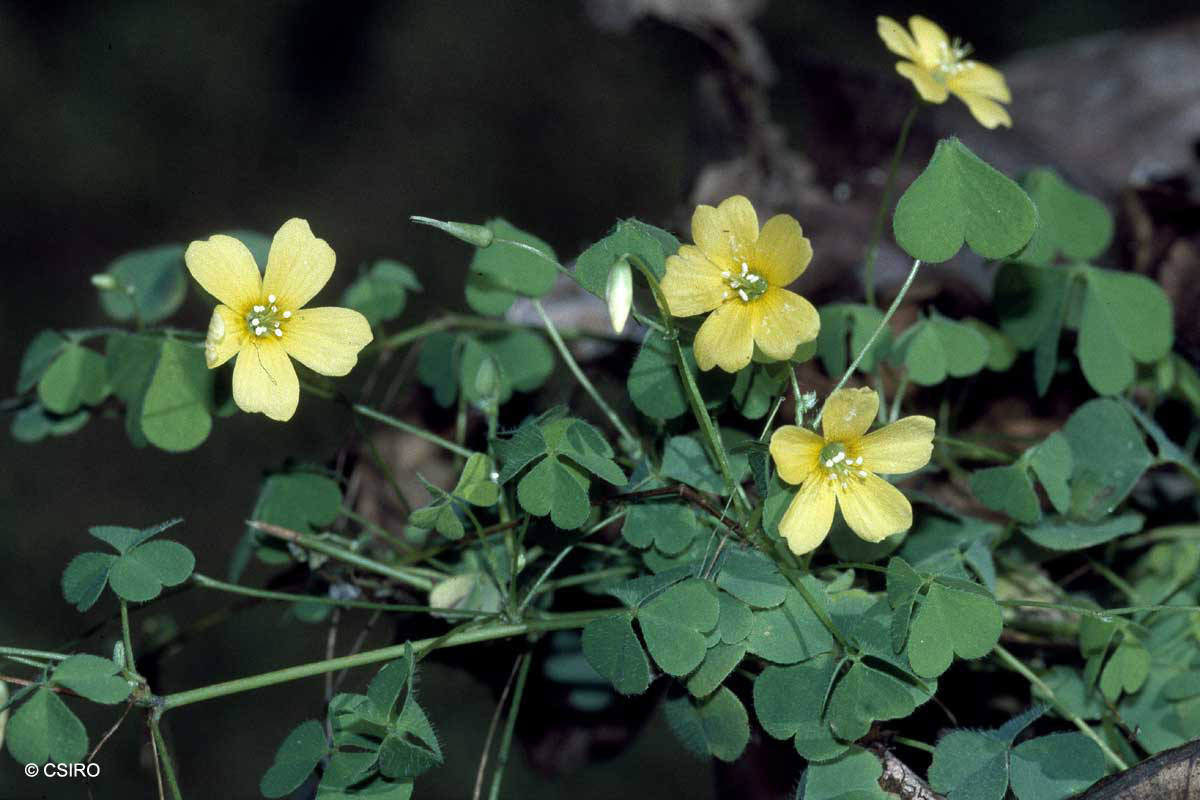oxalis: (415, 349, 1190, 800), (13, 273, 210, 788), (886, 87, 1190, 382)
